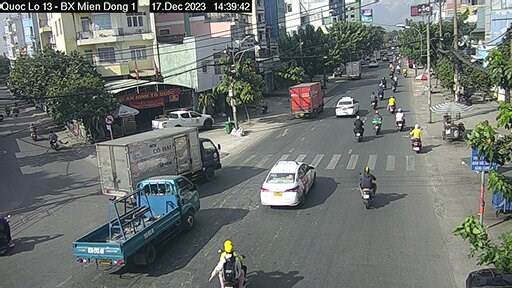car: (262, 155, 310, 207), (150, 108, 215, 132), (336, 93, 361, 123)
motorbike: (372, 109, 391, 147), (362, 164, 380, 204), (390, 109, 409, 135), (354, 115, 369, 145), (411, 124, 426, 154)
truck: (111, 178, 198, 267), (102, 130, 222, 191), (288, 82, 326, 125), (343, 58, 364, 84)
